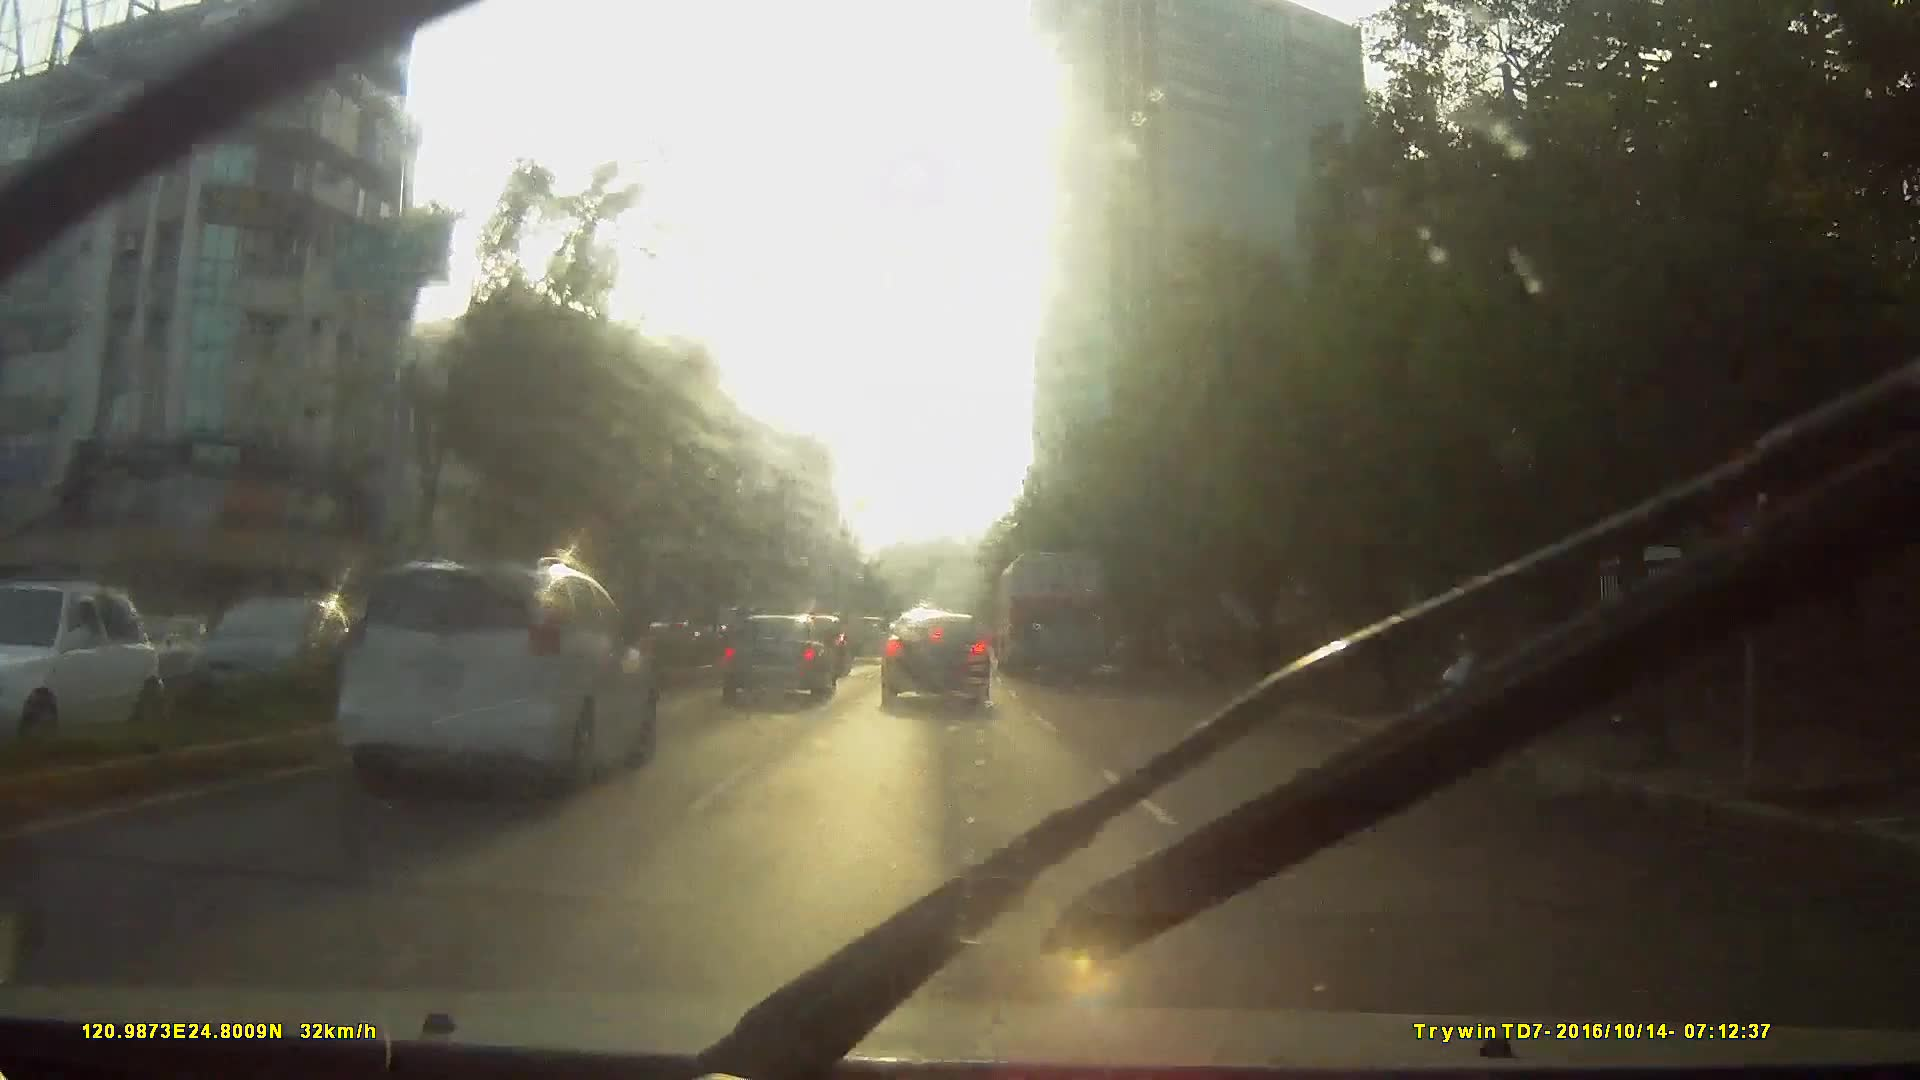vehicle: (251, 556, 684, 868), (328, 553, 655, 795), (3, 582, 198, 764), (185, 597, 367, 717), (1000, 549, 1110, 680), (877, 605, 992, 709), (717, 608, 837, 700), (845, 615, 891, 665)
